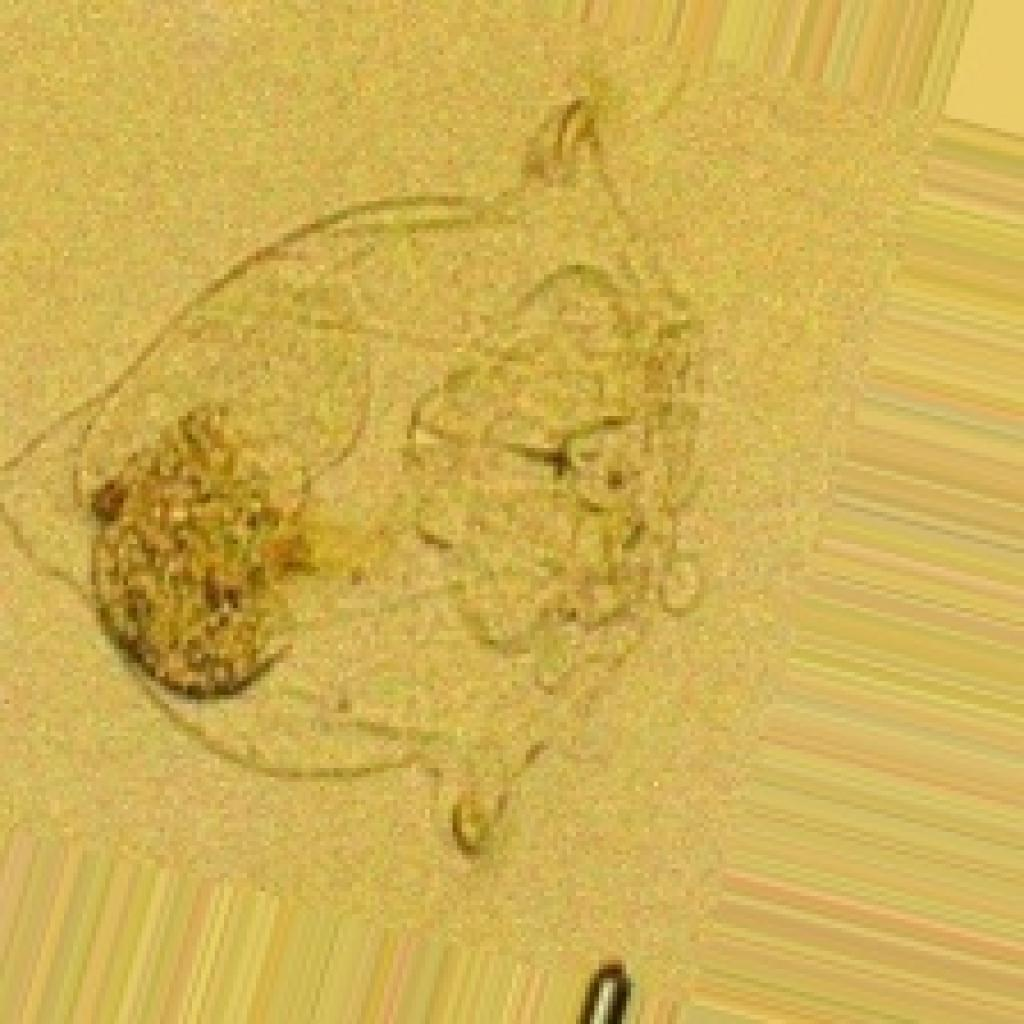Rotifer: (0, 60, 749, 918)
